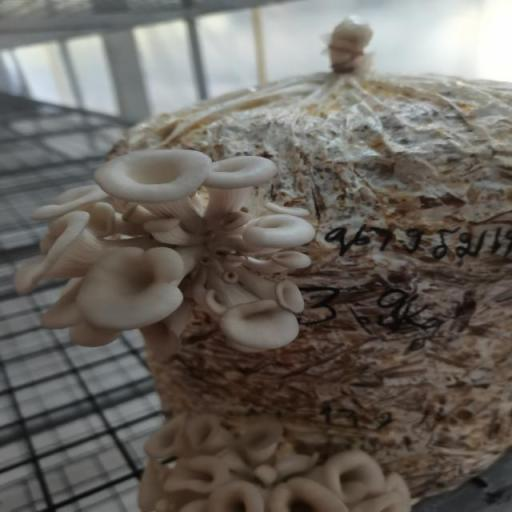White Oyster Mushroom: (11, 145, 314, 364), (133, 409, 421, 512)
